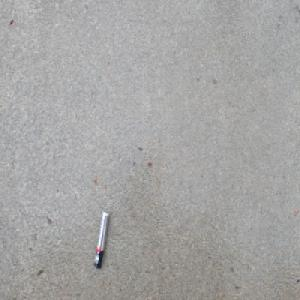Battery: (93, 208, 110, 270)
